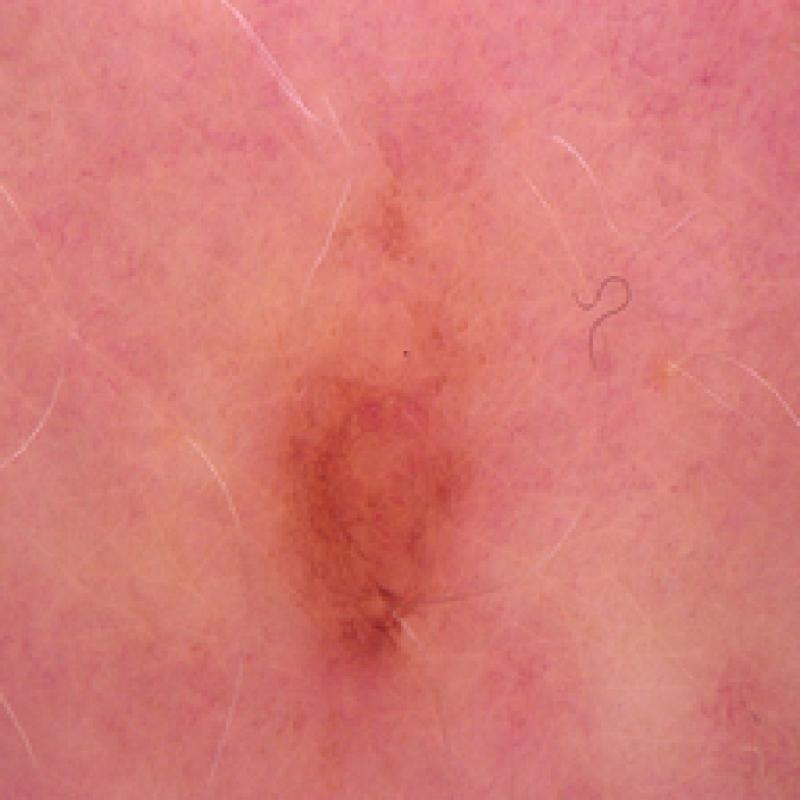benign: (242, 109, 546, 757)
